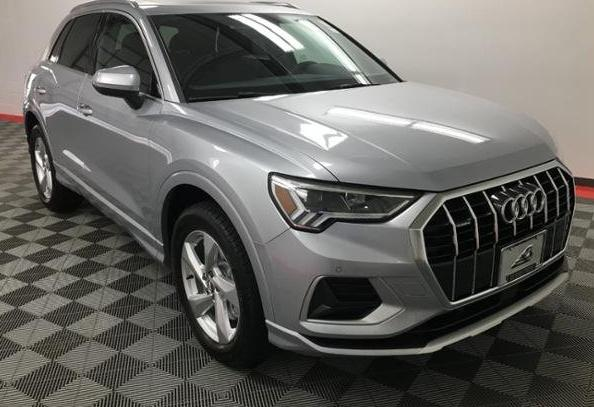SUV: (24, 2, 575, 368)
